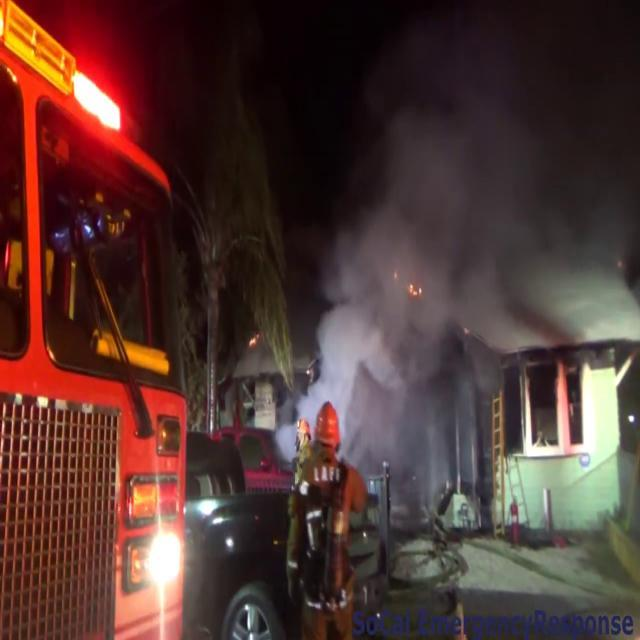Smoke: (306, 1, 640, 439)
